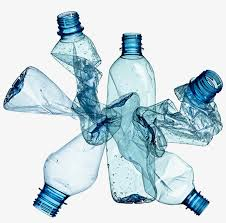available: (102, 96, 210, 219), (5, 59, 122, 146), (50, 4, 119, 146), (106, 25, 157, 209), (132, 55, 222, 156), (34, 112, 120, 213)
